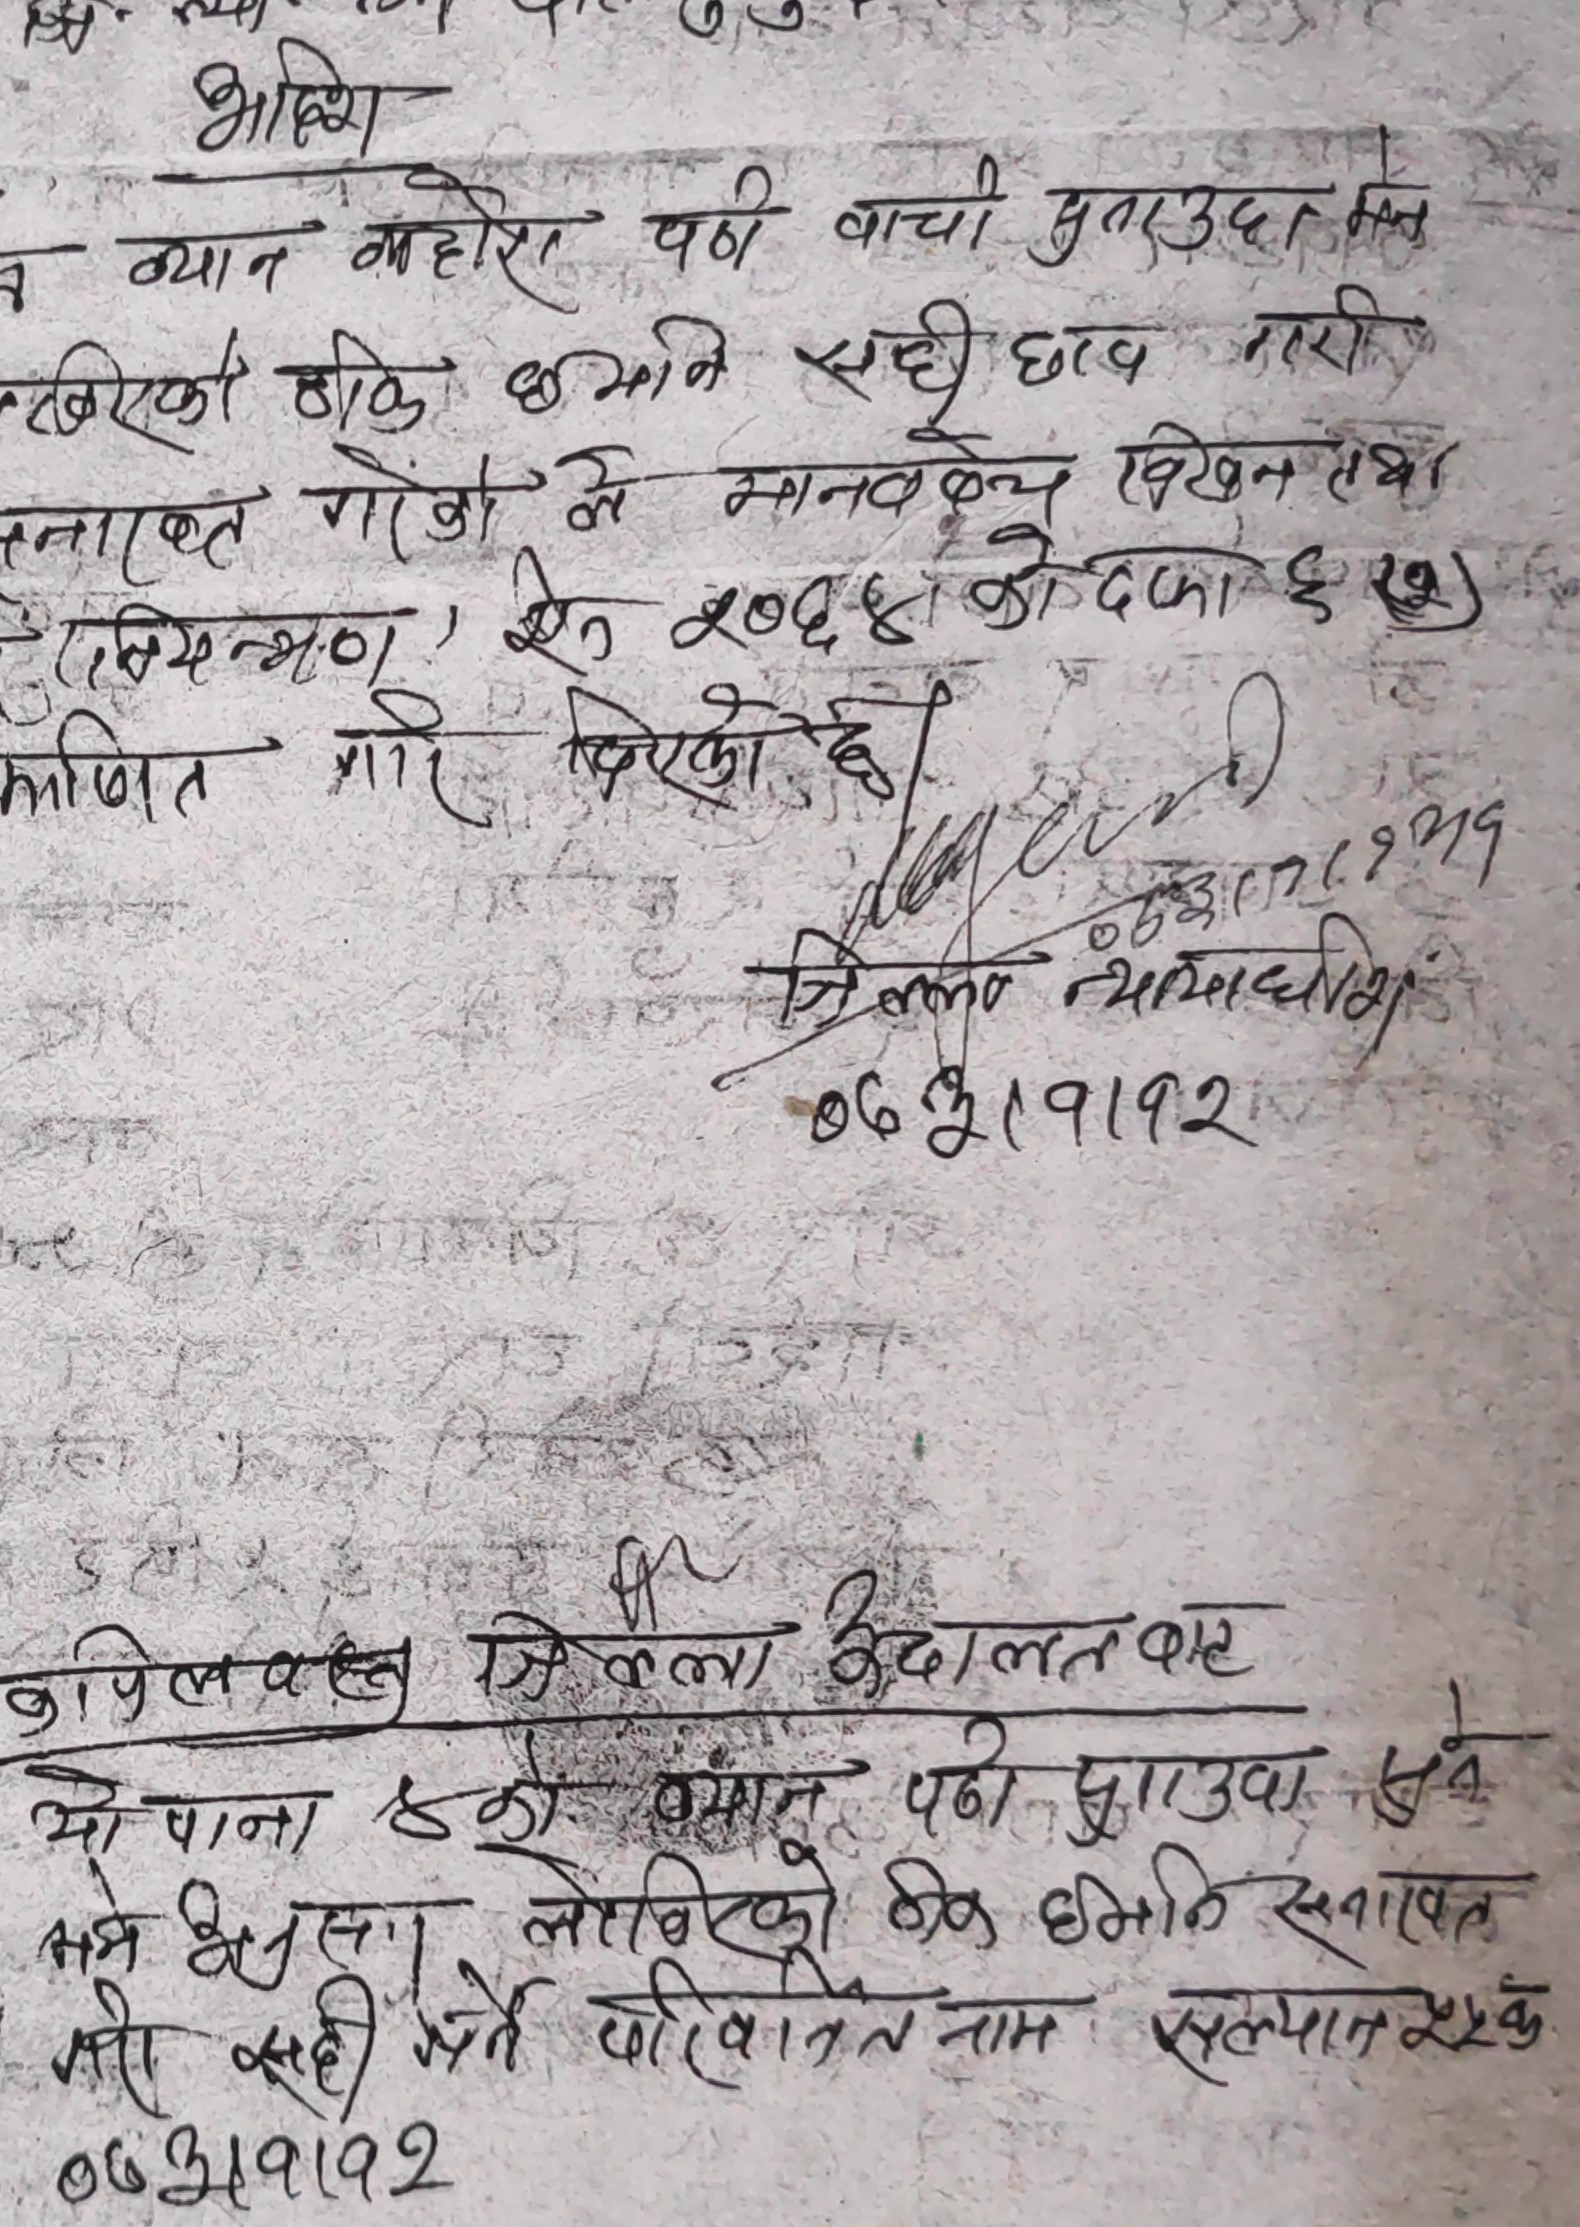text: (824, 1562, 1269, 1694), (793, 1055, 1270, 1169), (50, 2104, 463, 2227), (3, 1617, 421, 1738), (580, 1959, 923, 2094), (499, 1832, 850, 1964), (1058, 920, 1453, 1027), (715, 417, 1076, 525), (462, 1608, 799, 1714), (554, 668, 781, 814), (19, 1757, 332, 1860), (1111, 414, 1459, 504), (164, 1882, 458, 1988), (344, 173, 581, 299), (1144, 1977, 1399, 2094), (24, 328, 251, 456), (1029, 173, 1313, 273), (496, 309, 740, 422), (316, 684, 491, 834), (185, 38, 392, 162), (1060, 1742, 1312, 1844), (9, 487, 262, 585), (670, 573, 927, 667), (793, 287, 982, 414), (1031, 1853, 1245, 1957), (311, 443, 511, 554), (1265, 1861, 1505, 1954), (55, 699, 224, 829), (29, 1976, 185, 2112), (229, 1977, 385, 2109), (826, 149, 1004, 255), (1240, 282, 1411, 391), (631, 156, 792, 272), (284, 326, 436, 448), (896, 1718, 1035, 1842), (115, 217, 311, 299), (1086, 533, 1252, 629), (404, 1964, 534, 2083), (875, 1849, 1009, 1964), (496, 562, 619, 672), (961, 513, 1065, 639), (1404, 1977, 1561, 2061), (930, 1983, 1065, 2073), (1004, 314, 1161, 391), (811, 704, 910, 807), (544, 438, 636, 538), (380, 1772, 467, 1854)
